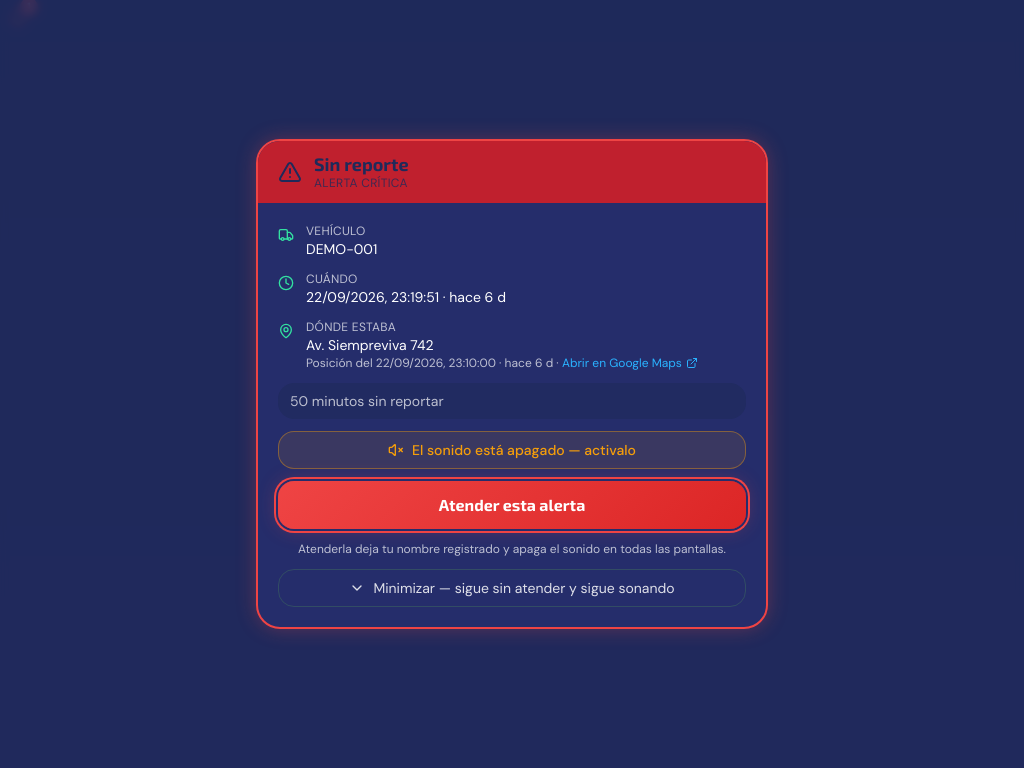
Test: Campana · los tres estados se distinguen en pantalla › 🔴 mientras carga, lo dice
The image size is (1024, 768).
Click the button "Atender esta alerta": (512, 505) x1=278 y1=481 x2=746 y2=529
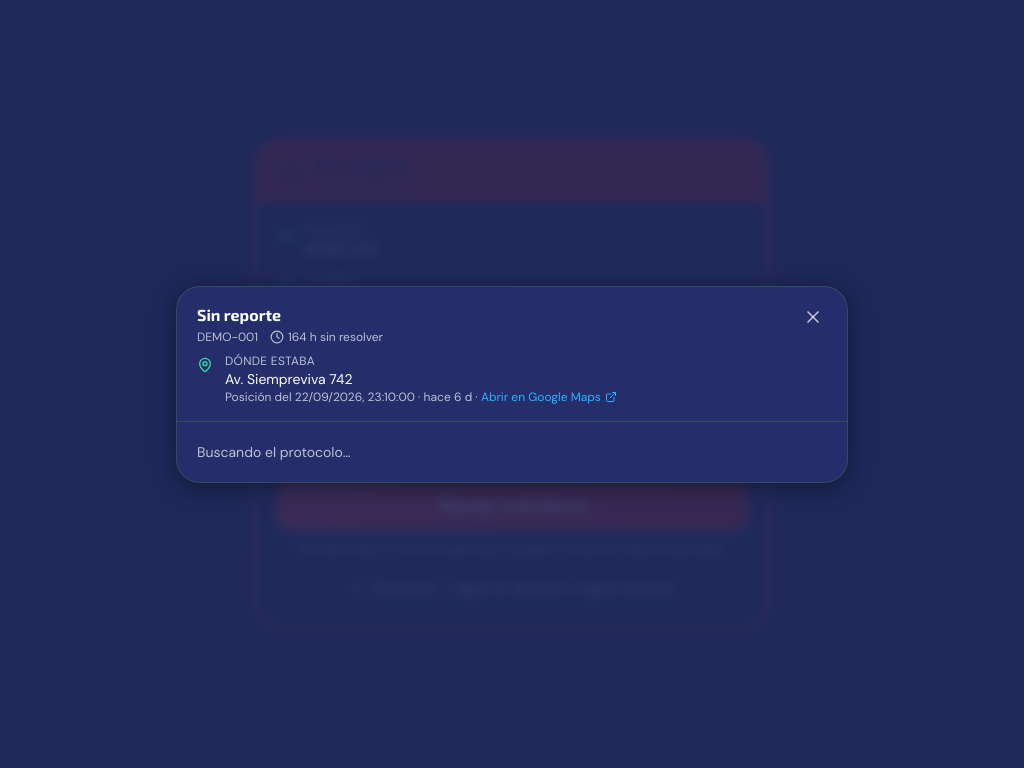
Now the text "Buscando el protocolo…" is shown, box x1=197 y1=442 x2=351 y2=460
